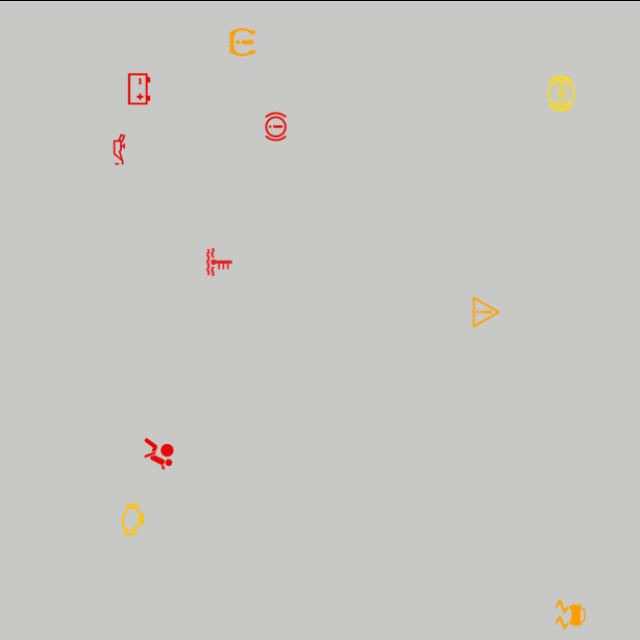Anti Lock Braking System: (542, 73, 580, 111)
Braking System Issue: (256, 106, 294, 144)
Charging System Issue: (120, 69, 158, 107)
Check Engine: (114, 499, 152, 538)
Electronic Stability Problem -ESP-: (552, 594, 590, 632)
Engine Overheating Warning Light: (200, 242, 238, 280)
Low Engine Oil Warning Light: (100, 130, 138, 168)
Low Tire Pressure Warning Light: (224, 22, 262, 60)
Master warning light: (468, 292, 506, 330)
SRS-Airbag: (140, 434, 178, 472)
